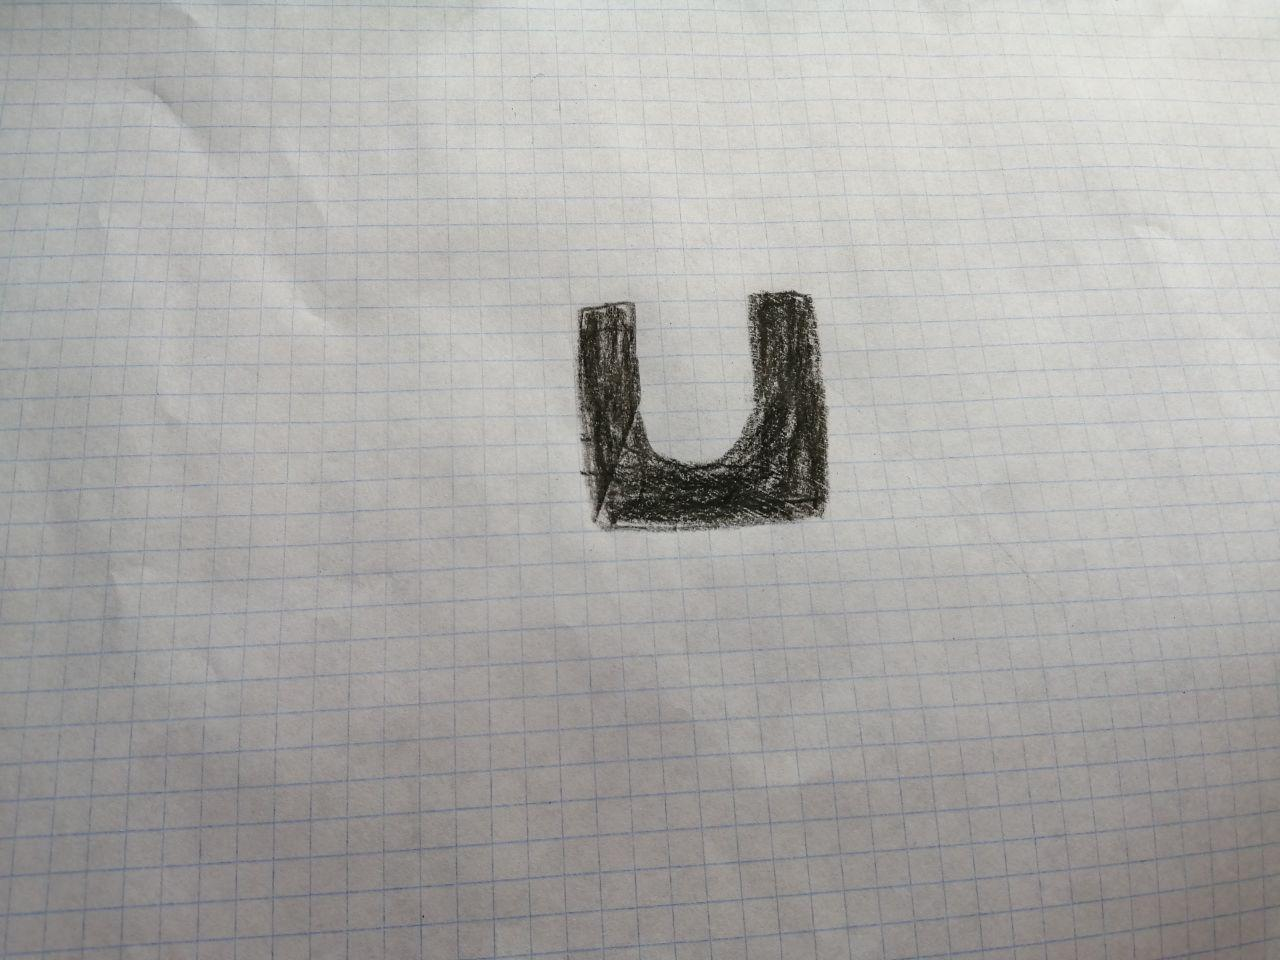u: (568, 278, 843, 539)
